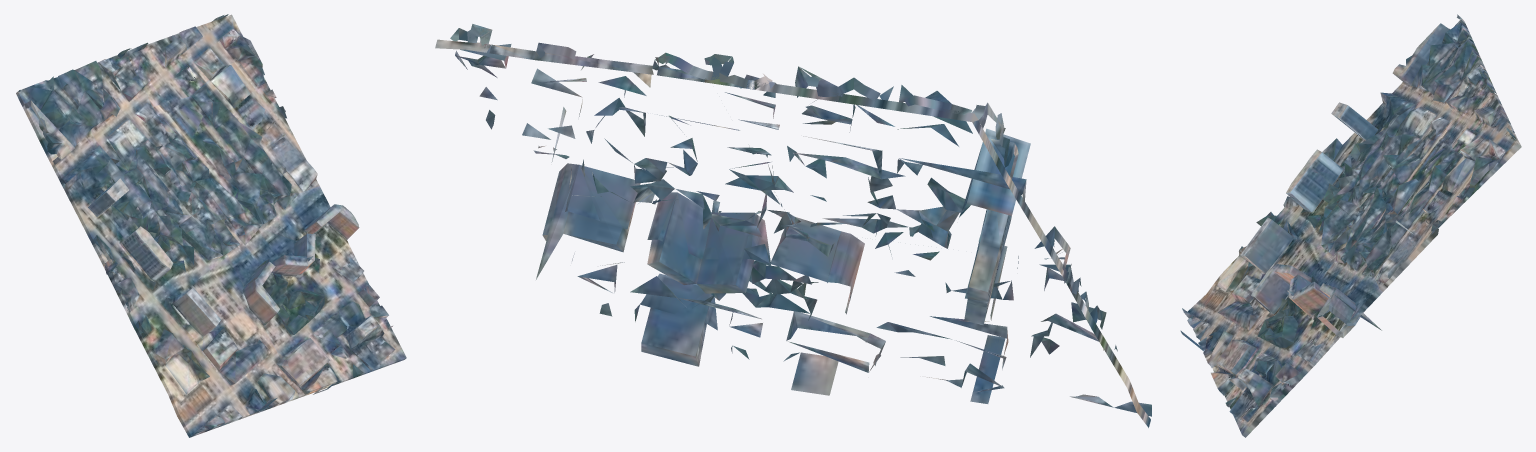
File: AJVsH2wTCKGXrNwF-WN70HoclIIaKymp4x8U2RIFr3Jq9kGS0WgDxkKp8xCSErF-7sqhNWTw1TetSFANCyjx5SctpHG0kl6t_4Z7EQQ4UCvR06nMLroBBLfrNFDQ_iEkXQu5AkLA_m-d2Q04He6bZSzSS8hHthgUGQ.glb
3 renders of one model, left to right at view 1: azimuth 30°, elevation 25°; view 2: azimuth 150°, elevation 25°; view 3: azimuth 270°, elevation 25°, orthographic. The views are drawn at different scales.
Size of the model in its own units: 520 by 472 by 510.
Materials: 2 (2 with a texture image).
